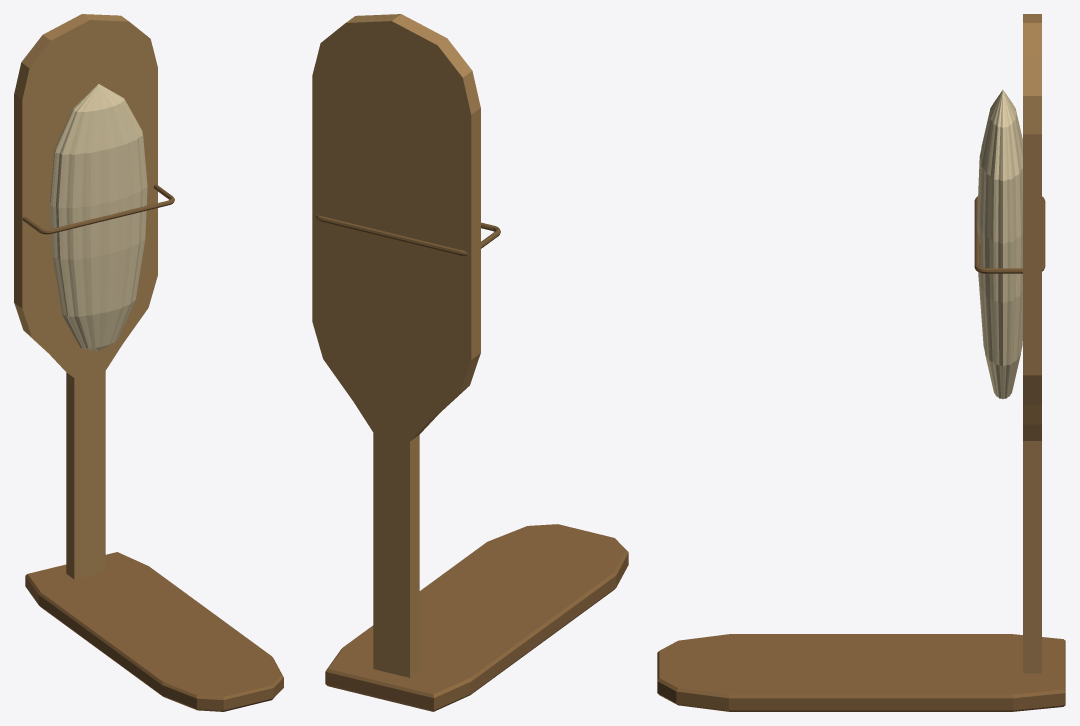
The picture shows the model from 3 angles, left to right: view 1: azimuth 30°, elevation 25°; view 2: azimuth 150°, elevation 25°; view 3: azimuth 270°, elevation 25°; orthographic projection. The views are drawn at different scales.
Visible parts, largest first — view 1: WholeNarrowNeckBroadPaddle, WholeLongRoundedSeatBoard, WholeClosedPreparedTowAppearance, WholeSingleClosedBindingLoop; view 2: WholeNarrowNeckBroadPaddle, WholeLongRoundedSeatBoard, WholeSingleClosedBindingLoop; view 3: WholeLongRoundedSeatBoard, WholeNarrowNeckBroadPaddle, WholeClosedPreparedTowAppearance, WholeSingleClosedBindingLoop.
Boxes of the visible parts, x1=… form: WholeNarrowNeckBroadPaddle: x1=14, y1=14, x2=157, y2=579; WholeLongRoundedSeatBoard: x1=25, y1=552, x2=283, y2=711; WholeClosedPreparedTowAppearance: x1=50, y1=84, x2=147, y2=350; WholeSingleClosedBindingLoop: x1=22, y1=184, x2=174, y2=234; WholeNarrowNeckBroadPaddle: x1=312, y1=14, x2=480, y2=677; WholeLongRoundedSeatBoard: x1=325, y1=524, x2=628, y2=711; WholeSingleClosedBindingLoop: x1=316, y1=215, x2=500, y2=255; WholeLongRoundedSeatBoard: x1=657, y1=634, x2=1065, y2=711; WholeNarrowNeckBroadPaddle: x1=1023, y1=14, x2=1041, y2=673; WholeClosedPreparedTowAppearance: x1=977, y1=90, x2=1022, y2=398; WholeSingleClosedBindingLoop: x1=974, y1=196, x2=1045, y2=273.
Size of the model in its own units: 0.19 by 0.765 by 0.43.
